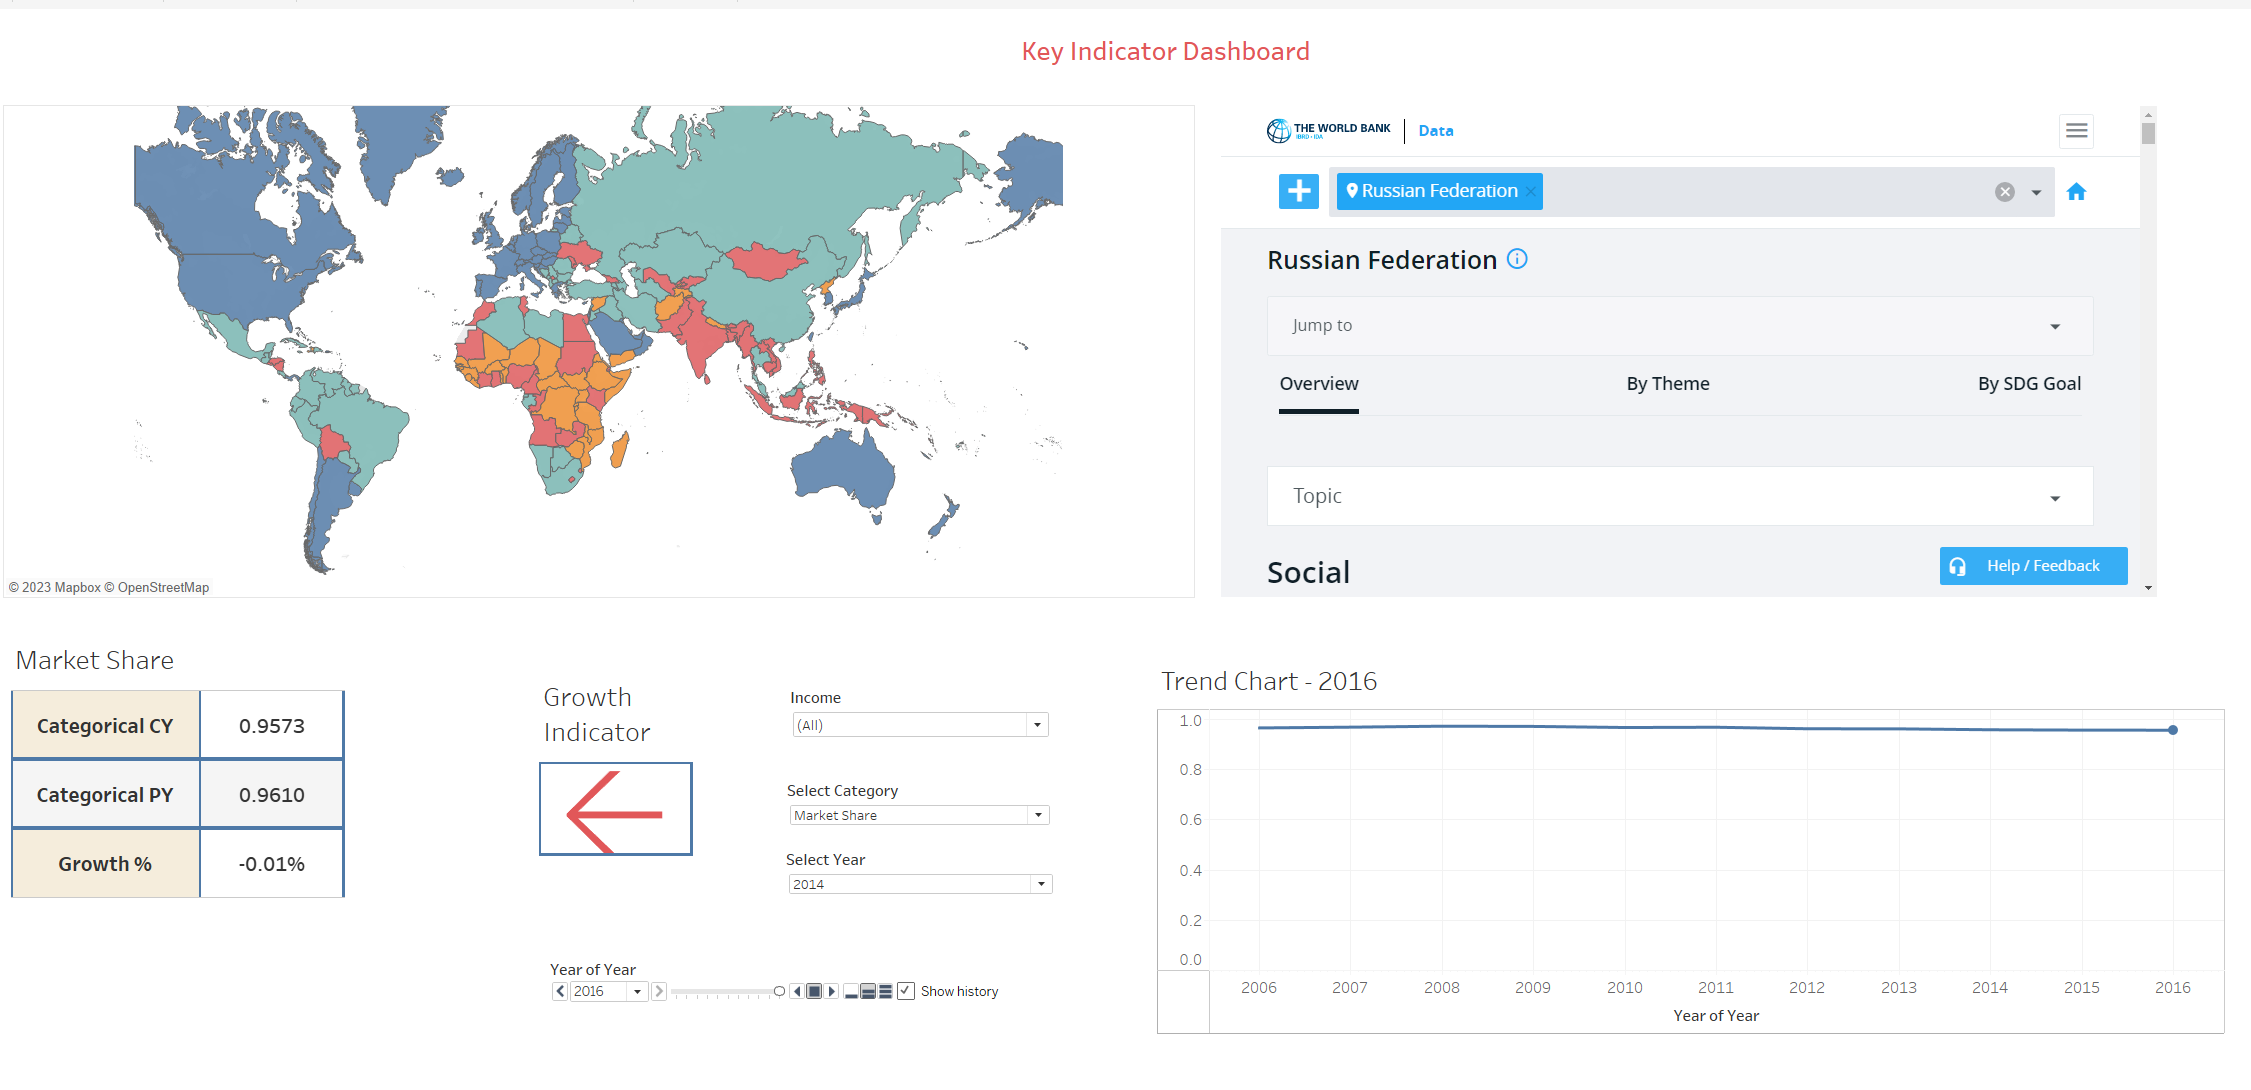

The dashboard page shown, as its layout file describes it:
{"tool":"tableau","page":{"name":"Dashboard 1","canvas":[1000,1000],"units":"permille","ordinal":0},"visuals":[{"type":"text","box":[426.6,17.9,163.8,25.7]},{"type":"worksheet","title":"Map","mark":"Multipolygon","box":[2.1,59.1,519.1,370.5]},{"type":"web page","param":"data.worldbank.org/country/Russian Federation?view=chart","box":[532.4,70.8,407.5,358.1]},{"type":"worksheet","title":"KPI Calculator","mark":"Automatic","box":[4.7,458.7,220.6,293.5]},{"type":"worksheet","title":"Trend Chart","mark":"Circle","rows":["Calculation_637540857494847489"],"cols":["year"],"box":[504.6,474.1,464.9,273.5]},{"type":"worksheet","title":"Growth Indicator","mark":"Automatic","box":[234.6,485.5,178.5,207.6]},{"type":"filter","title":"Map","param":"[federated.1pr7kly0v9ccif0zsoxum1i0qjl3].[none:income:nk]","box":[344.7,494.4,114.1,43.5]},{"type":"parameter","param":"[Parameters].[Parameter 1]","box":[343.5,562.5,115.9,35.7]},{"type":"parameter","param":"[Parameters].[Parameter 2]","box":[342.9,612.7,117.6,38]},{"type":"currpage","title":"Trend Chart","box":[240.5,693.1,201.9,65.8]}]}

Visuals, with their boxes on the dashboard's canvas, which has no fixed pixel size, in thousandths of its width and height (x1, y1, x2, y2). These are canvas units, not pixel positions in the 2251x1090 screenshot, which may show the page scaled, cropped or inside an application window:
text: <region>427, 18, 590, 44</region>
"Map" worksheet (Multipolygon marks): <region>2, 59, 521, 430</region>
web page: <region>532, 71, 940, 429</region>
"KPI Calculator" worksheet: <region>5, 459, 225, 752</region>
"Trend Chart" worksheet (Circle marks): <region>505, 474, 970, 748</region>
"Growth Indicator" worksheet: <region>235, 486, 413, 693</region>
"Map" filter: <region>345, 494, 459, 538</region>
parameter: <region>344, 562, 459, 598</region>
parameter: <region>343, 613, 460, 651</region>
"Trend Chart" currpage: <region>240, 693, 442, 759</region>
